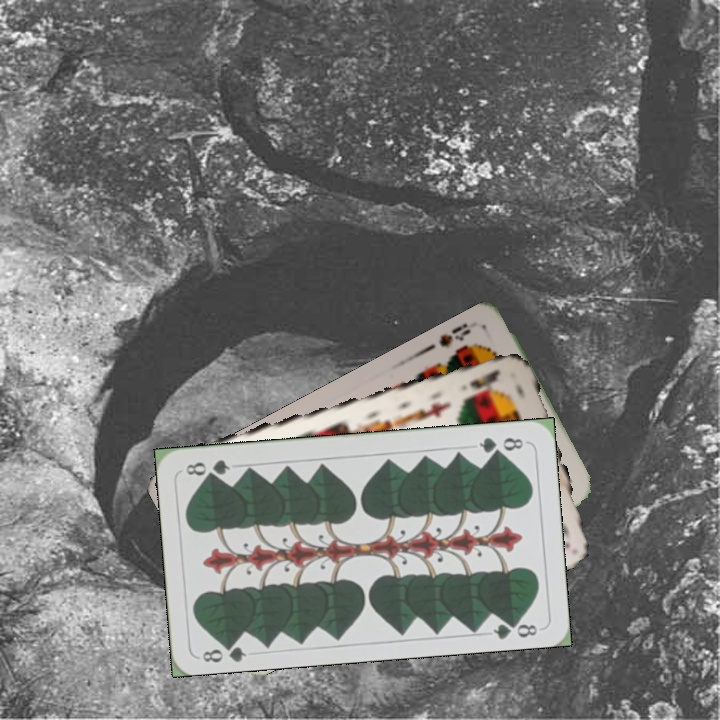G8: (198, 636, 249, 665), (475, 433, 526, 457)
S8: (435, 318, 473, 351)
SK: (466, 365, 503, 392)
